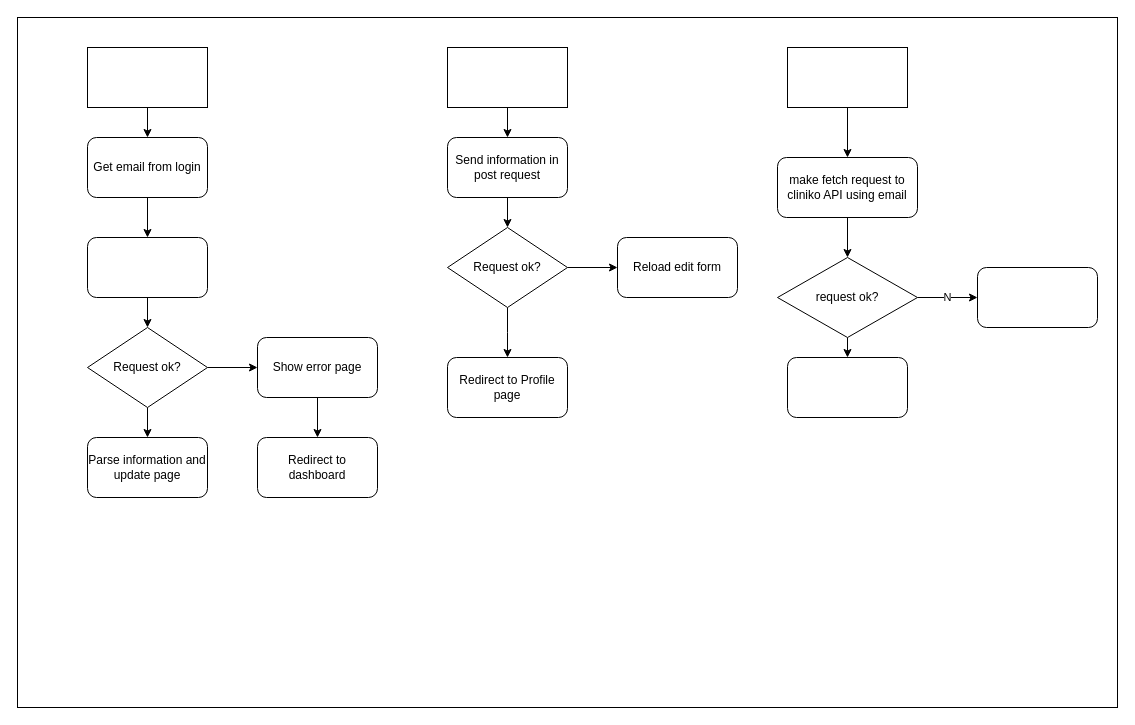
This 1135x725 diagram has some shape labels left out. The shapes that lost their labels are listed below. From the top down, each one's box as (x1, y1, x2, y2) in pixels, then its label:
(86, 46, 208, 108): View profile information
(446, 46, 568, 108): Edit profile information
(786, 46, 908, 108): View dashboard
(86, 236, 208, 298): Make fetch request to Mongo DB for Users (using email)
(976, 266, 1098, 328): Show 'information not available'
(786, 356, 908, 418): Parse info and load on page
